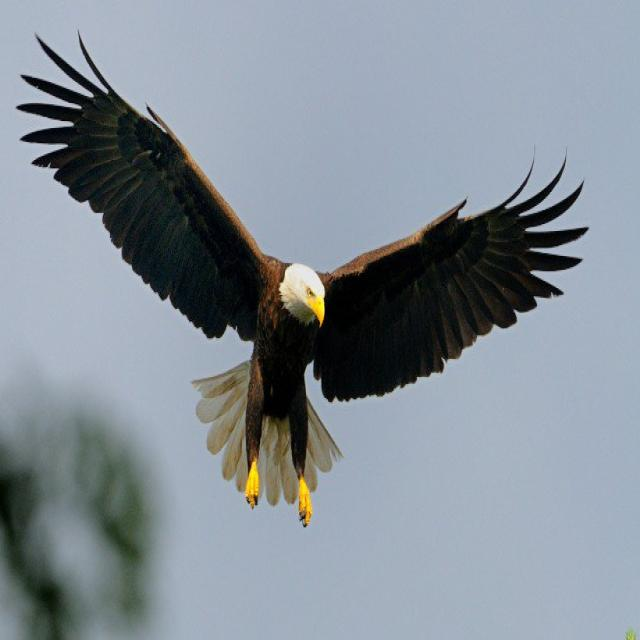Eagle: (21, 29, 585, 523)
